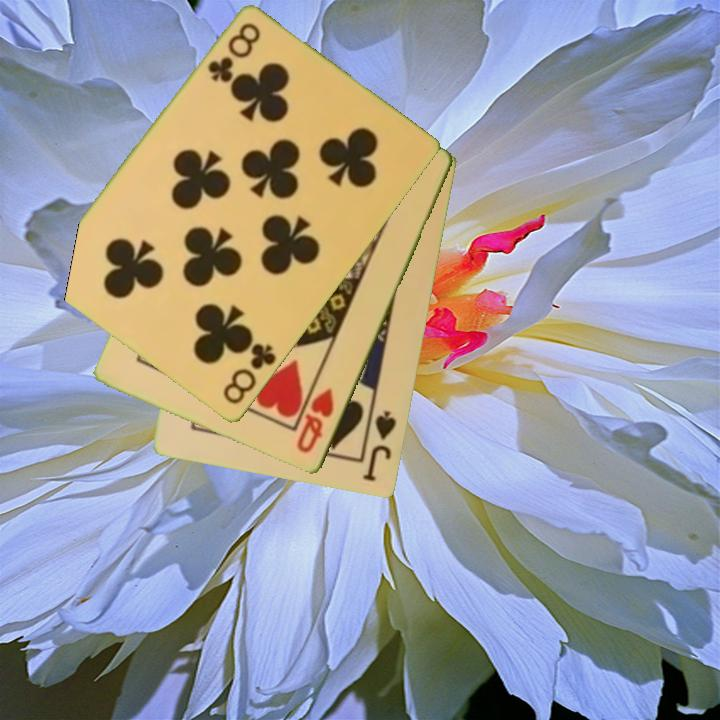8c: (219, 340, 279, 408), (204, 19, 264, 86)
Js: (360, 407, 400, 485)
Qh: (293, 385, 337, 457)
